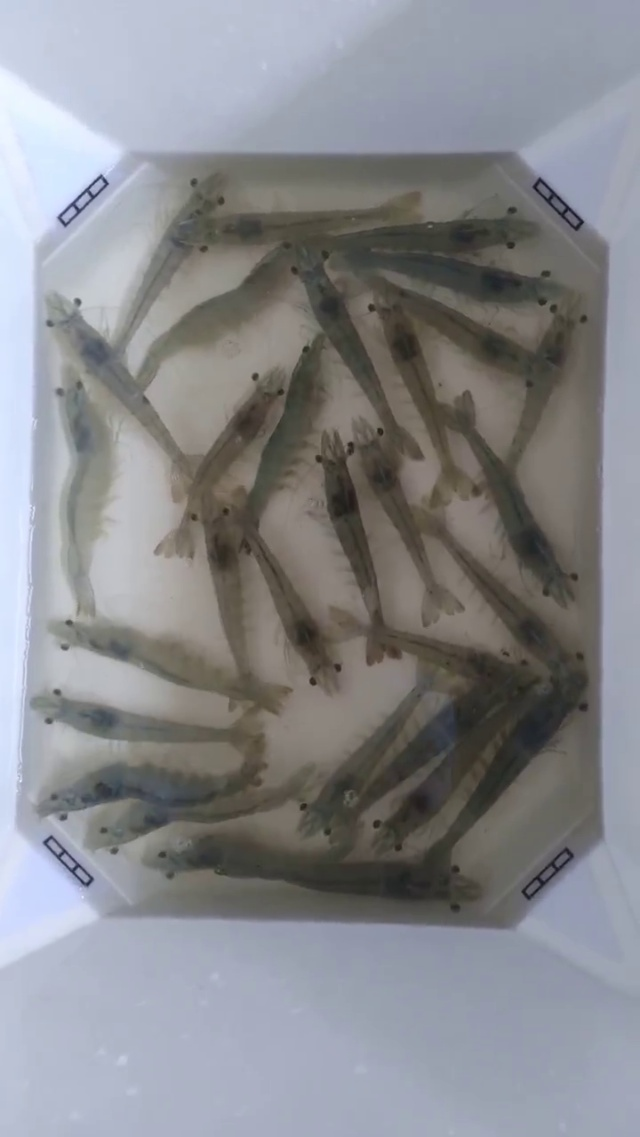shrimp: (562, 505, 639, 791), (32, 171, 135, 384), (315, 690, 435, 856), (582, 161, 639, 484), (157, 467, 248, 664), (76, 321, 188, 472), (5, 551, 96, 734), (447, 153, 557, 303), (122, 174, 223, 335), (263, 210, 372, 348), (0, 599, 66, 824), (248, 533, 337, 694), (505, 290, 585, 469), (366, 526, 463, 664), (261, 741, 353, 882), (403, 813, 517, 925), (155, 429, 241, 558), (54, 376, 114, 558), (40, 805, 141, 913), (99, 799, 193, 913), (212, 334, 289, 459), (319, 416, 380, 548)
